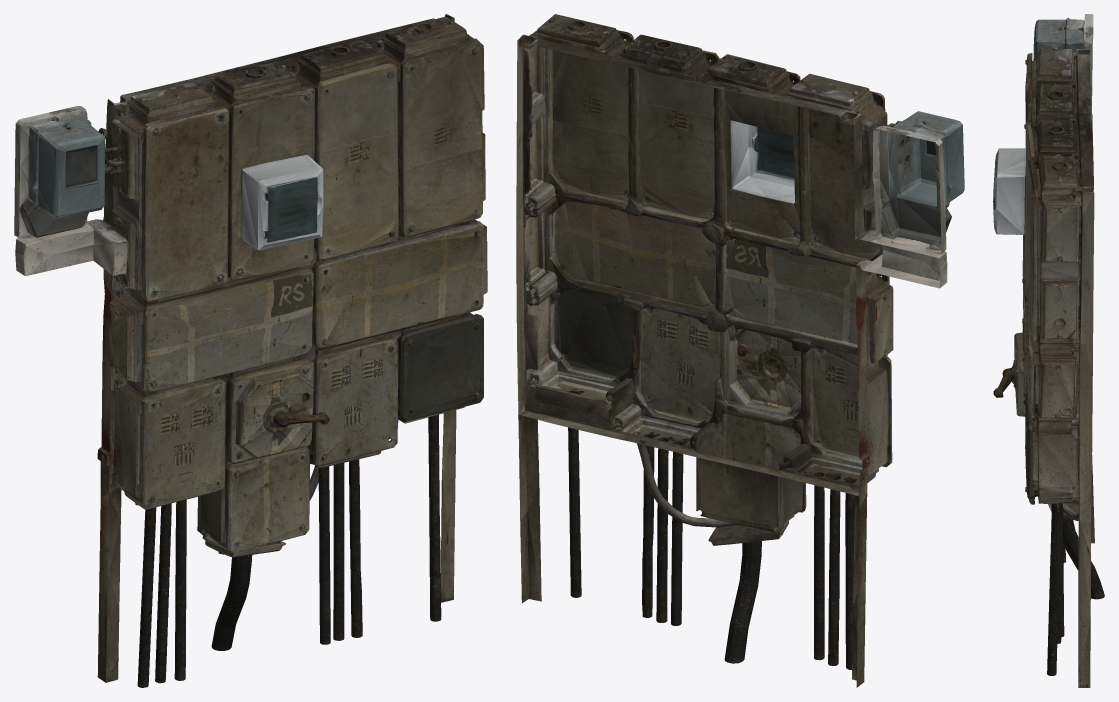
File: Electric_Box_LOD0.fbx
3 renders of one model, left to right at view 1: azimuth 30°, elevation 25°; view 2: azimuth 150°, elevation 25°; view 3: azimuth 270°, elevation 25°, orthographic. The views are drawn at different scales.
Parts seen in each view (by area): view 1: box_LOD0; view 2: box_LOD0; view 3: box_LOD0.
Part boxes in pixels (<box>): box_LOD0: <box>14,14,487,687</box>; box_LOD0: <box>516,14,964,687</box>; box_LOD0: <box>993,14,1104,687</box>.
Size of the model in its own units: 129 by 163 by 32.54.
